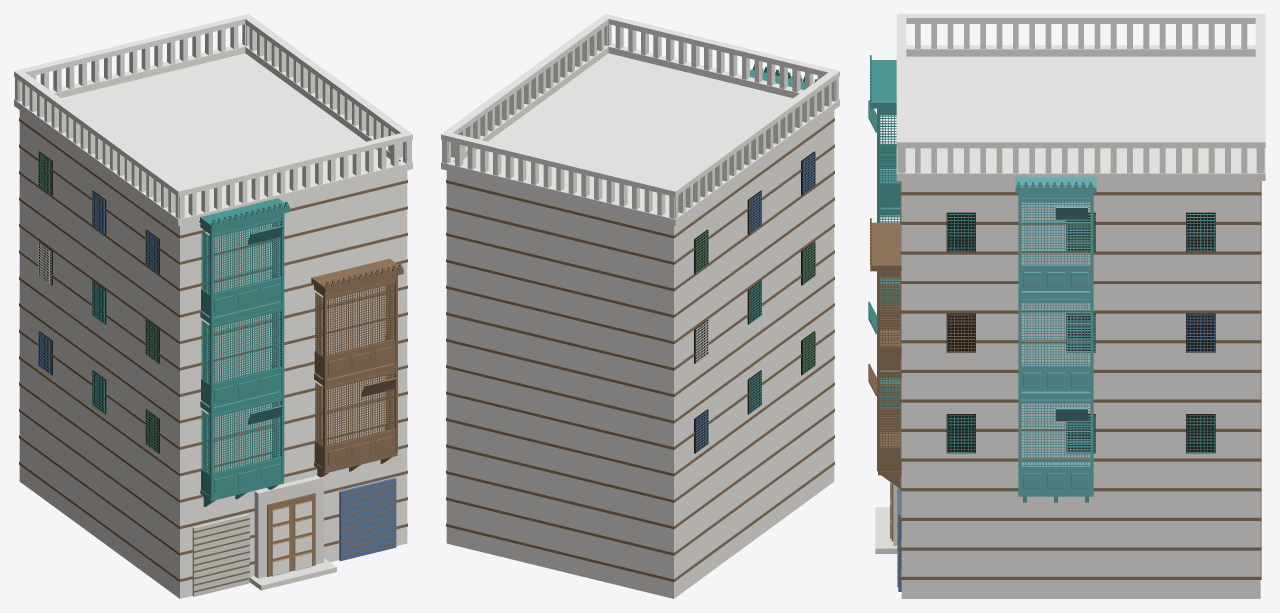
The model's file is SM_HijaziHouse_04.fbx.
3 views of the same model, side by side, from view 1: azimuth 30°, elevation 25°; view 2: azimuth 150°, elevation 25°; view 3: azimuth 270°, elevation 25° (orthographic). The views are drawn at different scales.
Visible parts, largest first — view 1: SM_HijaziHouse_04; view 2: SM_HijaziHouse_04; view 3: SM_HijaziHouse_04.
Part boxes in pixels (x1,y1,x2,y2): SM_HijaziHouse_04: [14, 14, 412, 598]; SM_HijaziHouse_04: [441, 14, 839, 598]; SM_HijaziHouse_04: [868, 14, 1265, 598].
Size of the model in its own units: 1016 by 1550 by 1216.
